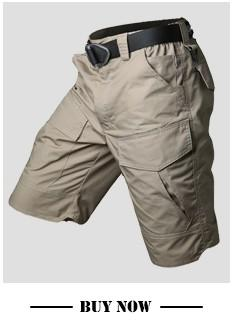pants: (10, 17, 220, 269)
